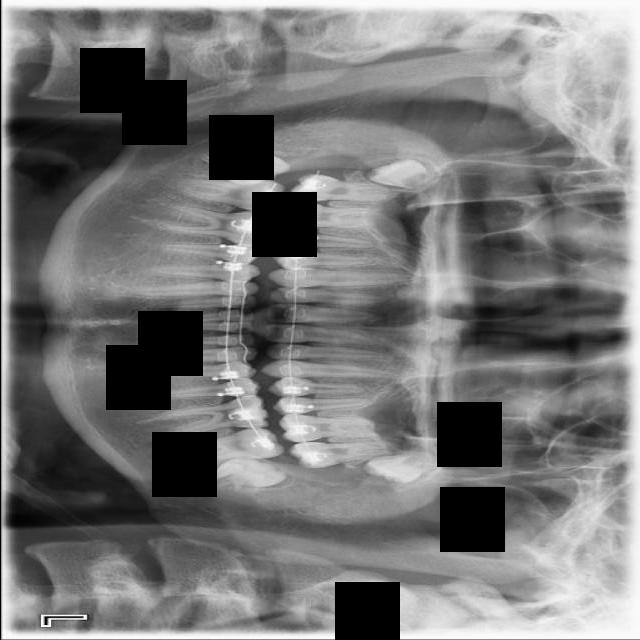3M ESPE Implant: (363, 151, 438, 193)
73: (91, 576, 100, 582)
BioHorizons Implant: (288, 439, 391, 469)
BioLife Implant: (362, 450, 436, 489)
Biomet 3i Implant: (205, 458, 286, 494)
Blue Sky Bio Implant: (178, 425, 284, 465)
Caries: (288, 171, 398, 213)
Implant: (175, 177, 284, 212)
Keystone Dental Implant: (196, 134, 293, 195)
